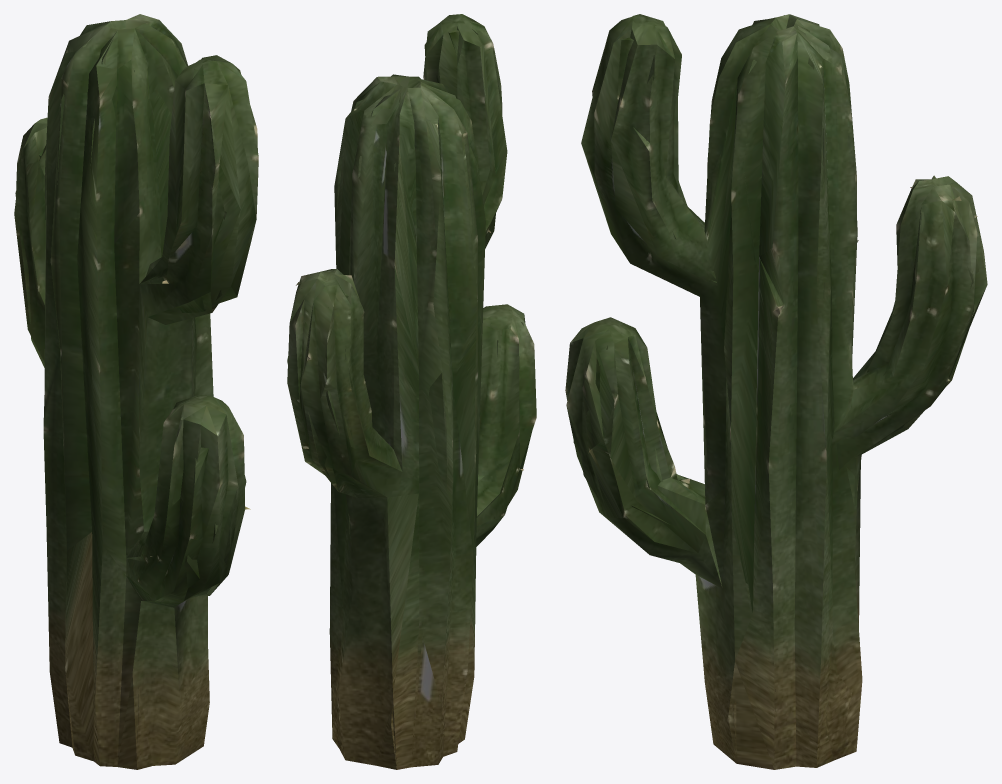
3 renders of one model, left to right at view 1: azimuth 30°, elevation 25°; view 2: azimuth 150°, elevation 25°; view 3: azimuth 270°, elevation 25°, orthographic. The views are drawn at different scales.
Parts seen in each view (by area): view 1: desert-cactus.002; view 2: desert-cactus.002; view 3: desert-cactus.002.
Boxes of the visible parts, bbox=[...] form: desert-cactus.002: bbox=[14, 14, 258, 769]; desert-cactus.002: bbox=[287, 14, 536, 769]; desert-cactus.002: bbox=[565, 14, 987, 769].
Bounding box in the file's own units: 0.5167 × 2.4 × 1.26.
1 material, 1 textured.
